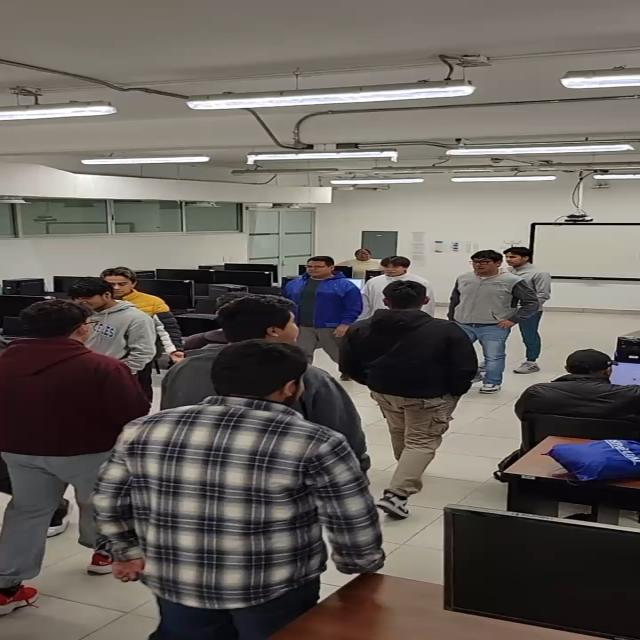Persona: (88, 337, 387, 640), (0, 296, 152, 623), (158, 292, 369, 475), (335, 281, 478, 518), (446, 249, 542, 395), (59, 278, 162, 374), (96, 266, 189, 360), (281, 257, 361, 366), (493, 246, 552, 376), (362, 254, 434, 324)
